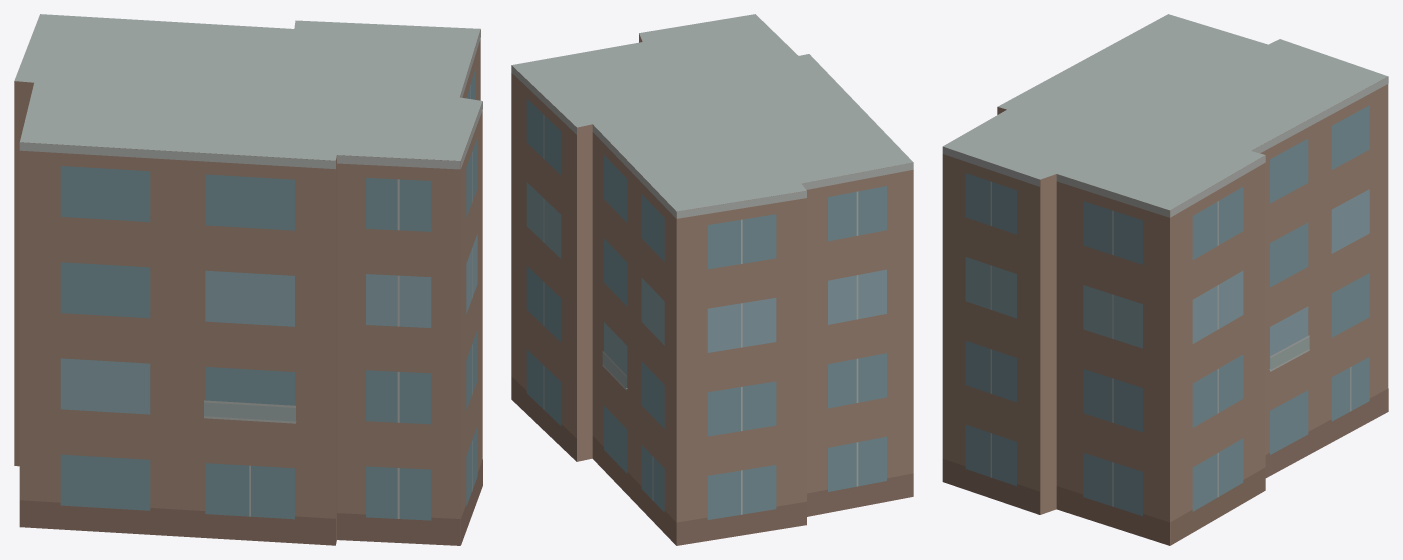
File: survey-upis-32457792.glb
The picture shows the model from 3 angles, left to right: view 1: azimuth 30°, elevation 25°; view 2: azimuth 150°, elevation 25°; view 3: azimuth 270°, elevation 25°; orthographic projection. The views are drawn at different scales.
Visible parts, largest first — view 1: survey-upis-32457792.tmp; view 2: survey-upis-32457792.tmp; view 3: survey-upis-32457792.tmp.
Part boxes in pixels (<box>): survey-upis-32457792.tmp: <box>14,14,482,545</box>; survey-upis-32457792.tmp: <box>511,14,913,545</box>; survey-upis-32457792.tmp: <box>942,14,1388,545</box>.
Bounding box in the file's own units: 13.95 × 11.1 × 13.38.
